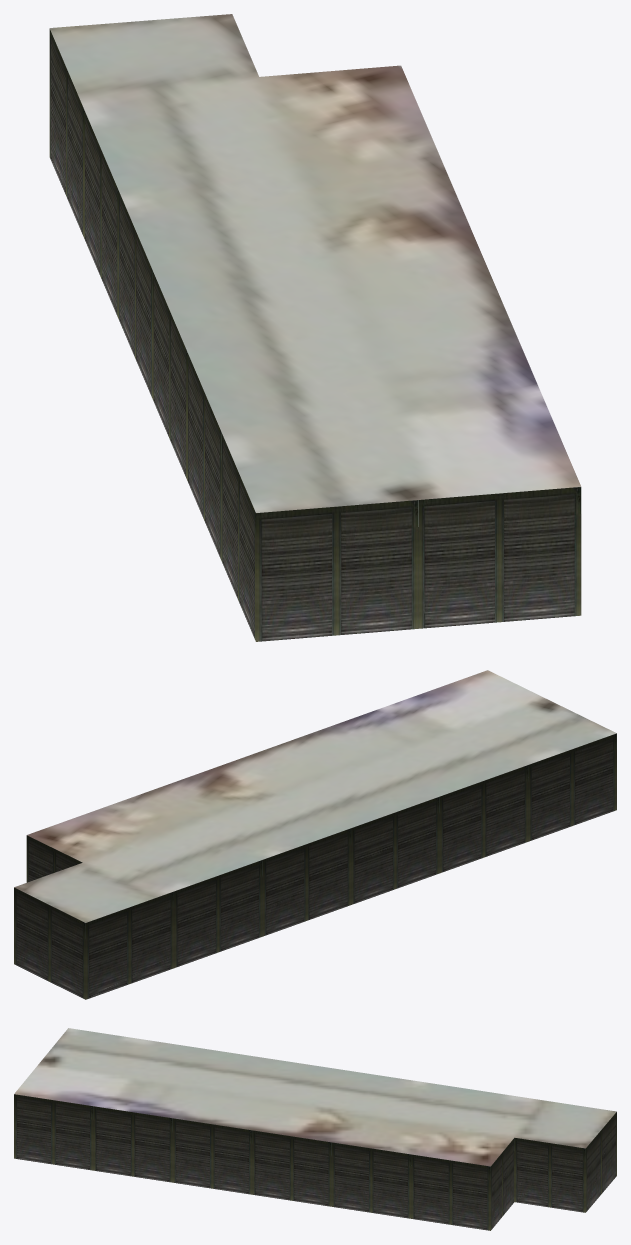
3 views of the same model, one above another, from view 1: azimuth 30°, elevation 25°; view 2: azimuth 150°, elevation 25°; view 3: azimuth 270°, elevation 25° (orthographic). The views are drawn at different scales.
Parts seen in each view (by area): view 1: SketchUp (×3); view 2: SketchUp (×4); view 3: SketchUp (×5).
Part boxes in pixels (x1,y1,x2,y2): SketchUp (×3): [49, 14, 581, 641]; SketchUp (×4): [14, 670, 616, 999]; SketchUp (×5): [14, 1028, 616, 1230].
Size of the model in its own units: 19.41 by 35.72 by 4.21.
Materials: 2 (2 with a texture image).
